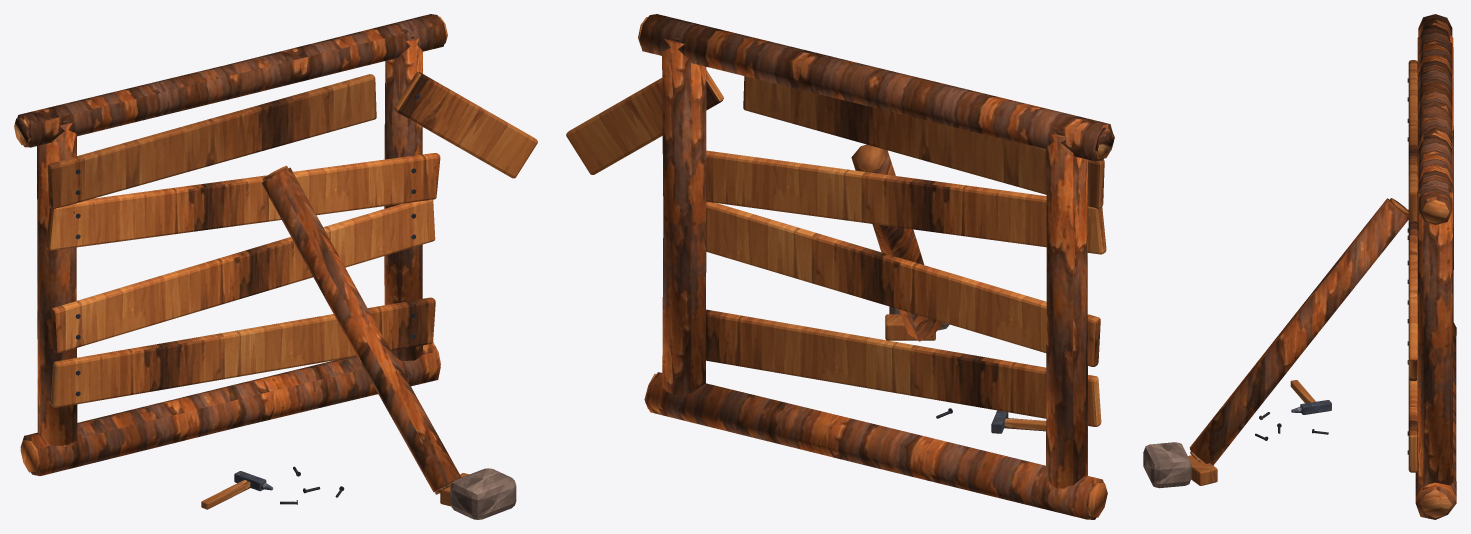
Rendered from mg_barricade.glb.
3 renders of one model, left to right at view 1: azimuth 30°, elevation 25°; view 2: azimuth 150°, elevation 25°; view 3: azimuth 270°, elevation 25°, orthographic. The views are drawn at different scales.
Parts seen in each view (by area): view 1: model; view 2: model; view 3: model.
Boxes of the visible parts, <box> form: model: <box>14,14,537,519</box>; model: <box>566,14,1114,519</box>; model: <box>1143,14,1456,519</box>.
Bounding box in the file's own units: 2.02 × 1.39 × 1.2.
Materials: 10 (10 with a texture image).
